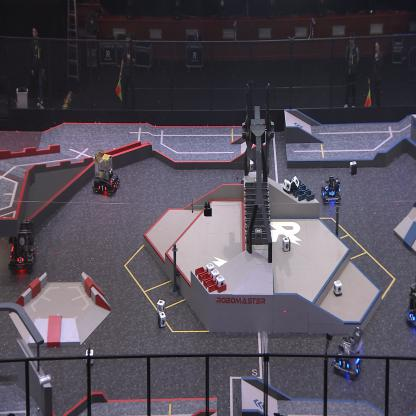car: (332, 326, 364, 378), (7, 219, 37, 273), (92, 150, 121, 197), (320, 175, 341, 206), (406, 278, 416, 328)
